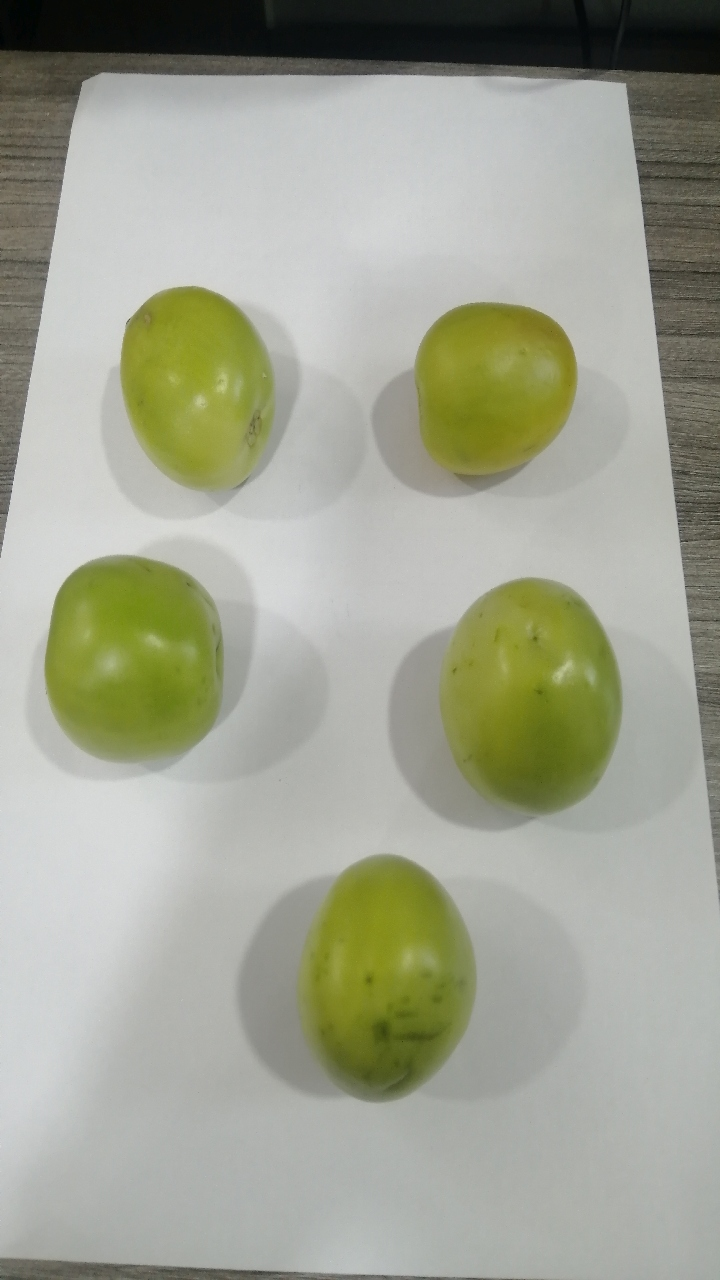tomateVerde: (423, 560, 637, 837), (284, 839, 495, 1117), (32, 539, 246, 792), (397, 279, 589, 514), (118, 252, 292, 500)
